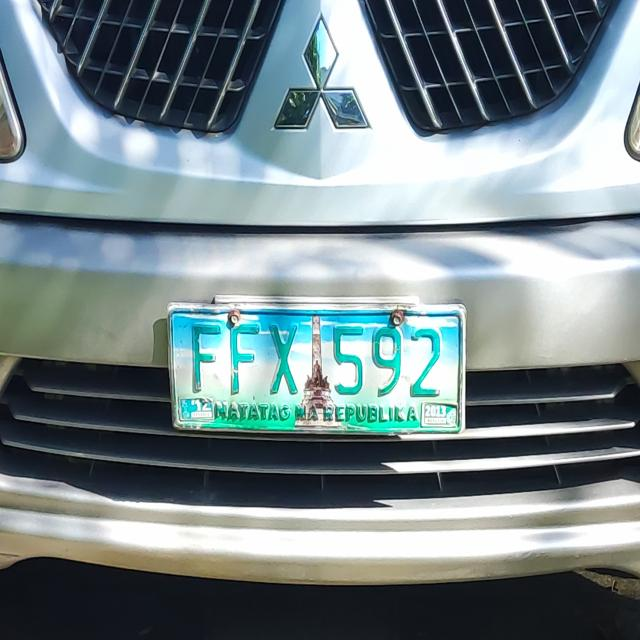plate: (161, 296, 474, 446)
